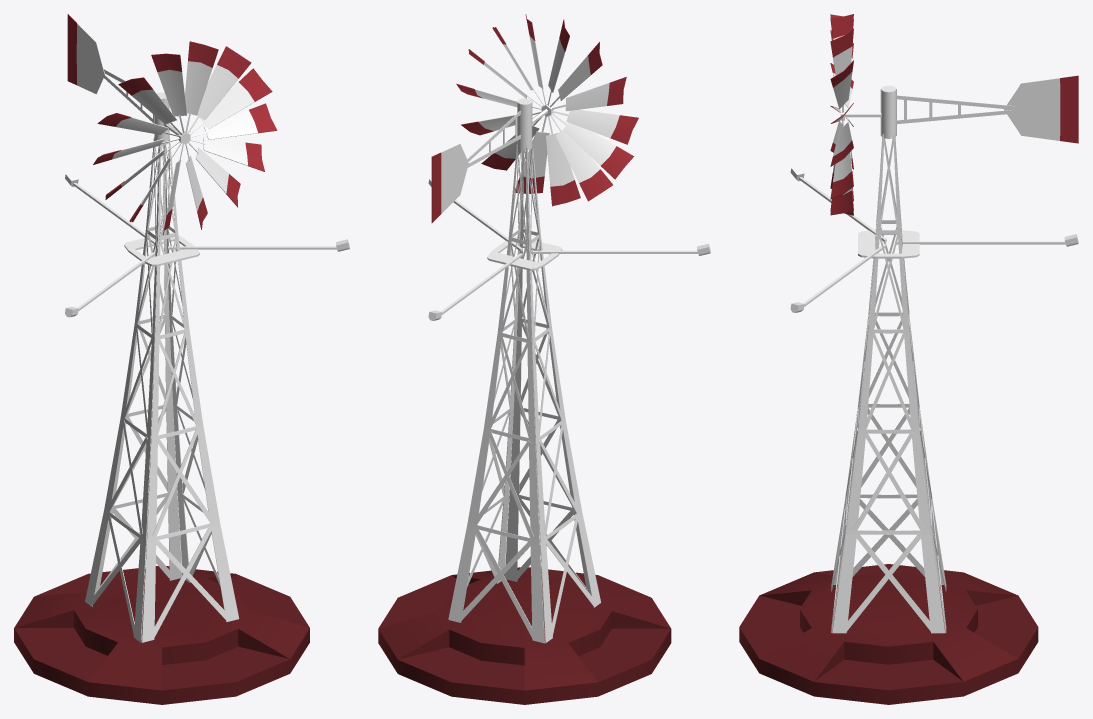
File: ElMolinito.glb
3 renders of one model, left to right at view 1: azimuth 30°, elevation 25°; view 2: azimuth 150°, elevation 25°; view 3: azimuth 270°, elevation 25°, orthographic. The views are drawn at different scales.
Parts seen in each view (by area): view 1: Foundation, Plane.014, Plane.016, Plane.017, Plane.019, Plane.018; view 2: Foundation, Plane.014, Plane.016, Plane.017, Plane.019, Cylinder.003, Plane.018; view 3: Foundation, Plane.014, Plane.017, Plane.016, Plane.019, Cylinder.003, Plane.018.
Part boxes in pixels (x1=…): Foundation: x1=14, y1=566, x2=309, y2=704; Plane.014: x1=85, y1=137, x2=239, y2=642; Plane.016: x1=93, y1=41, x2=277, y2=235; Plane.017: x1=67, y1=14, x2=154, y2=123; Plane.019: x1=65, y1=172, x2=349, y2=317; Plane.018: x1=124, y1=232, x2=199, y2=266; Foundation: x1=378, y1=567, x2=671, y2=704; Plane.014: x1=448, y1=142, x2=600, y2=643; Plane.016: x1=456, y1=14, x2=638, y2=206; Plane.017: x1=431, y1=110, x2=520, y2=222; Plane.019: x1=428, y1=178, x2=710, y2=320; Cylinder.003: x1=517, y1=98, x2=553, y2=150; Plane.018: x1=487, y1=237, x2=562, y2=270; Foundation: x1=739, y1=564, x2=1038, y2=704; Plane.014: x1=831, y1=133, x2=946, y2=633; Plane.017: x1=896, y1=75, x2=1078, y2=143; Plane.016: x1=830, y1=14, x2=853, y2=215; Plane.019: x1=790, y1=166, x2=1078, y2=312; Cylinder.003: x1=840, y1=85, x2=896, y2=138; Plane.018: x1=858, y1=230, x2=919, y2=258.
Bounding box in the file's own units: 5.77 × 11.85 × 5.9.
Materials: 1 (1 with a texture image).
